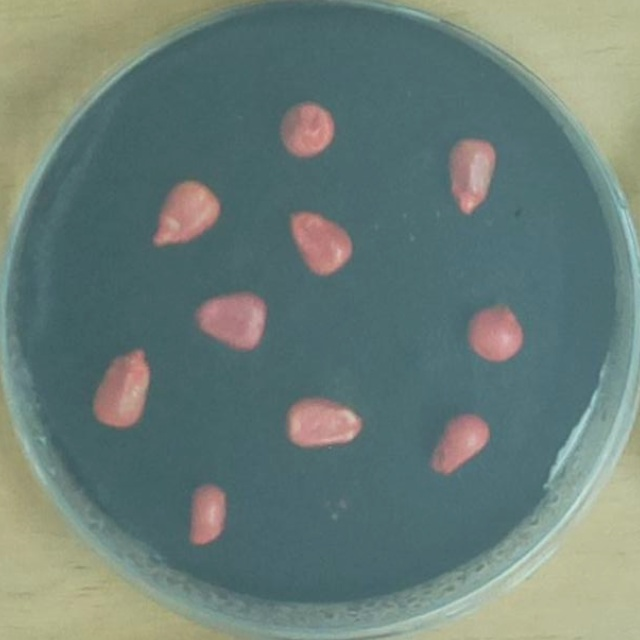Zea mays: (84, 338, 159, 436), (145, 172, 228, 256), (185, 282, 274, 359), (278, 200, 360, 282), (278, 387, 370, 455), (421, 403, 498, 481), (458, 294, 531, 372), (442, 129, 503, 221), (271, 94, 341, 163), (180, 473, 235, 552)
